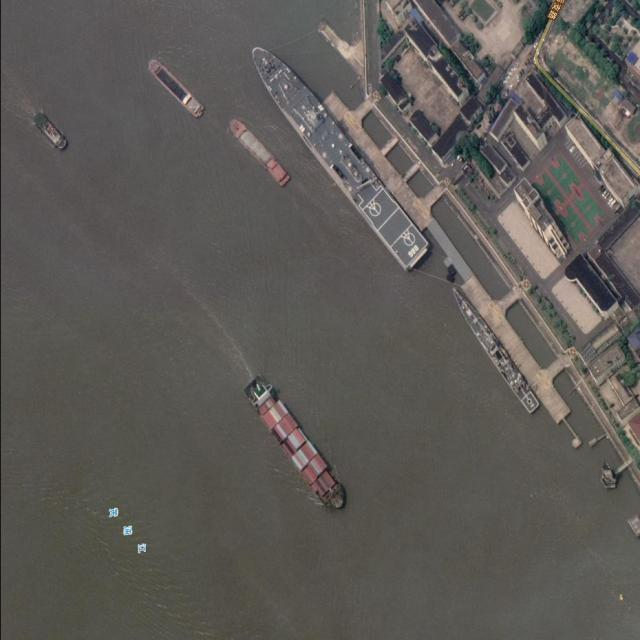Cargo: (224, 114, 294, 189), (144, 56, 209, 121)
Container Ship: (239, 374, 352, 516)
Frigate: (445, 284, 542, 415)
Landing: (238, 39, 438, 270)
Other Ship: (32, 111, 72, 153)
